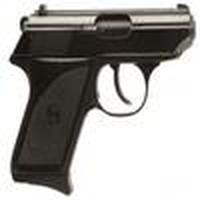gun: (13, 5, 198, 185)
